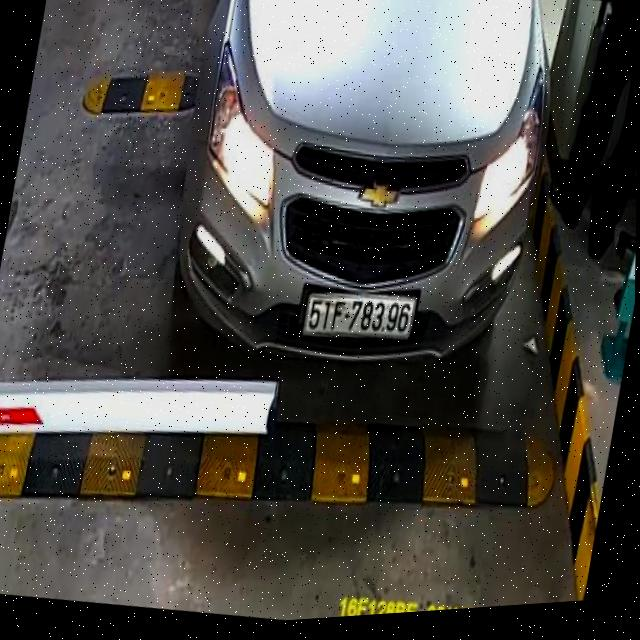car: (148, 0, 584, 421)
plate: (297, 279, 420, 353)
